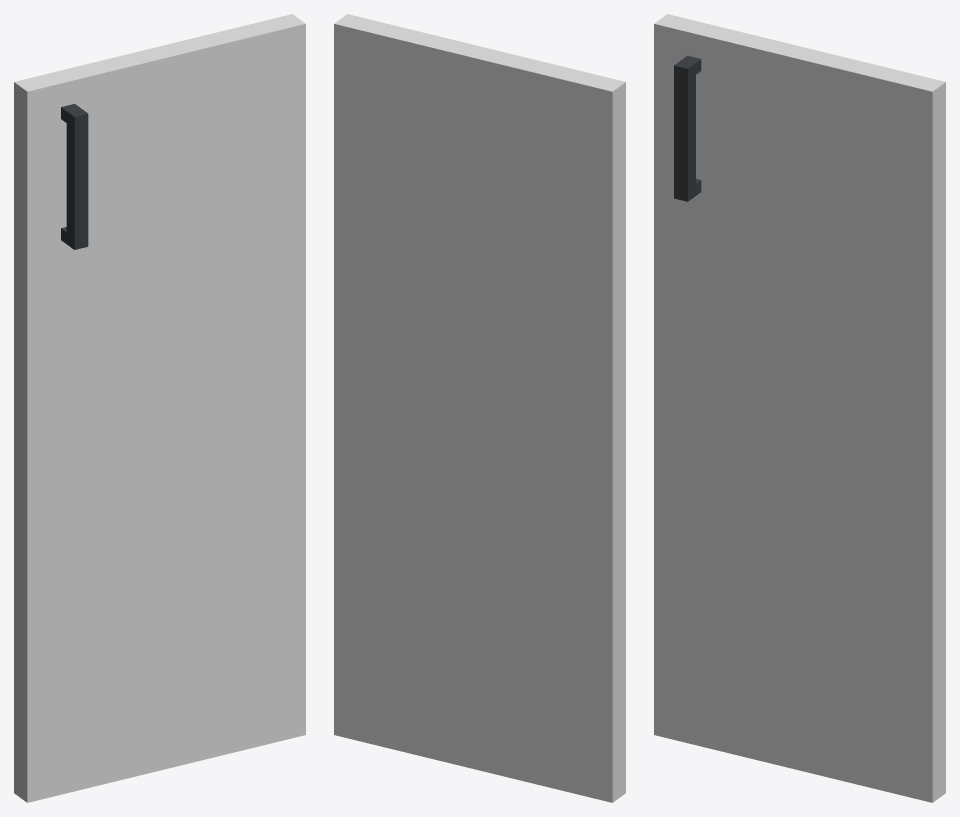
Rendered from BathroomDoor_C1_01.fbx.
The picture shows the model from 3 angles, left to right: view 1: azimuth 30°, elevation 25°; view 2: azimuth 150°, elevation 25°; view 3: azimuth 330°, elevation 25°; orthographic projection.
Parts seen in each view (by area): view 1: BathroomDoor_C1_01; view 2: BathroomDoor_C1_01; view 3: BathroomDoor_C1_01.
Boxes of the visible parts, left/top/right/bottom form: BathroomDoor_C1_01: left=14, top=14, right=305, bottom=802; BathroomDoor_C1_01: left=334, top=14, right=625, bottom=802; BathroomDoor_C1_01: left=654, top=14, right=945, bottom=802.
Bounding box in the file's own units: 30 × 73.19 × 5.03.
